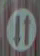Two way: (2, 3, 37, 55)
